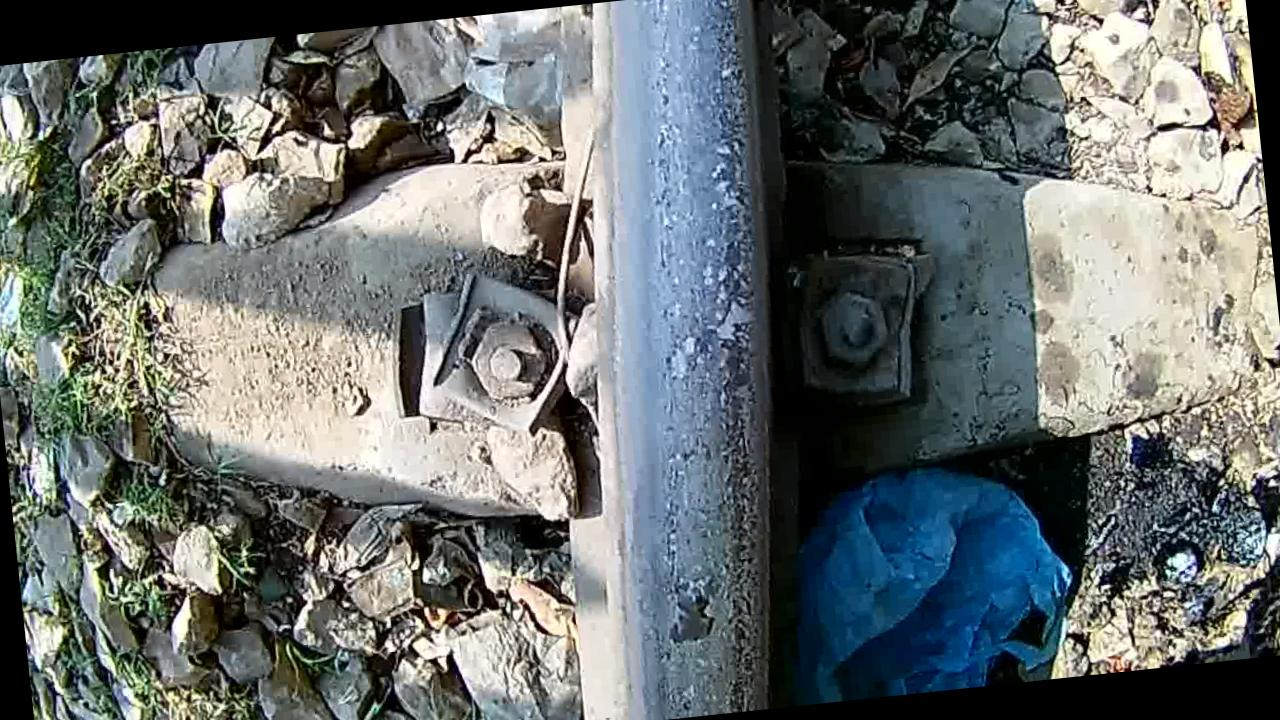crack: (569, 0, 818, 720)
